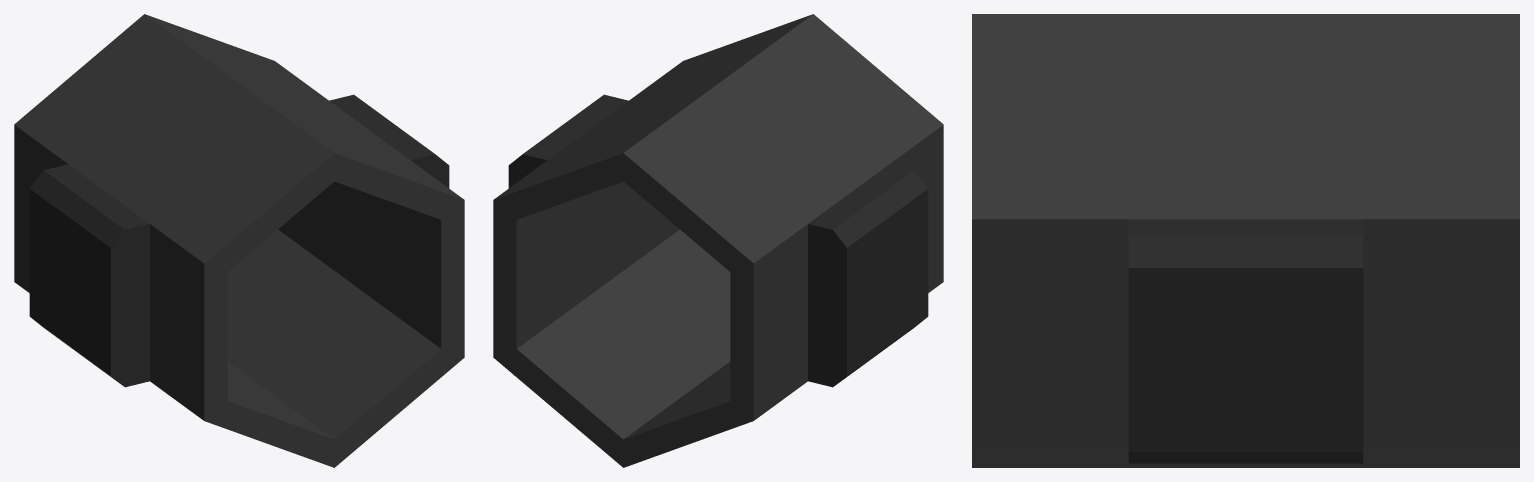
Rendered from Bullet_Belt.fbx.
3 views of the same model, side by side, from view 1: azimuth 30°, elevation 25°; view 2: azimuth 150°, elevation 25°; view 3: azimuth 270°, elevation 25° (orthographic). The views are drawn at different scales.
Parts seen in each view (by area): view 1: Bullet_Belt; view 2: Bullet_Belt; view 3: Bullet_Belt.
Part boxes in pixels (x1,y1,x2,y2): Bullet_Belt: [14, 14, 464, 467]; Bullet_Belt: [493, 14, 943, 467]; Bullet_Belt: [972, 14, 1519, 467].
Size of the model in its own units: 0.018 by 0.016 by 0.0175.
